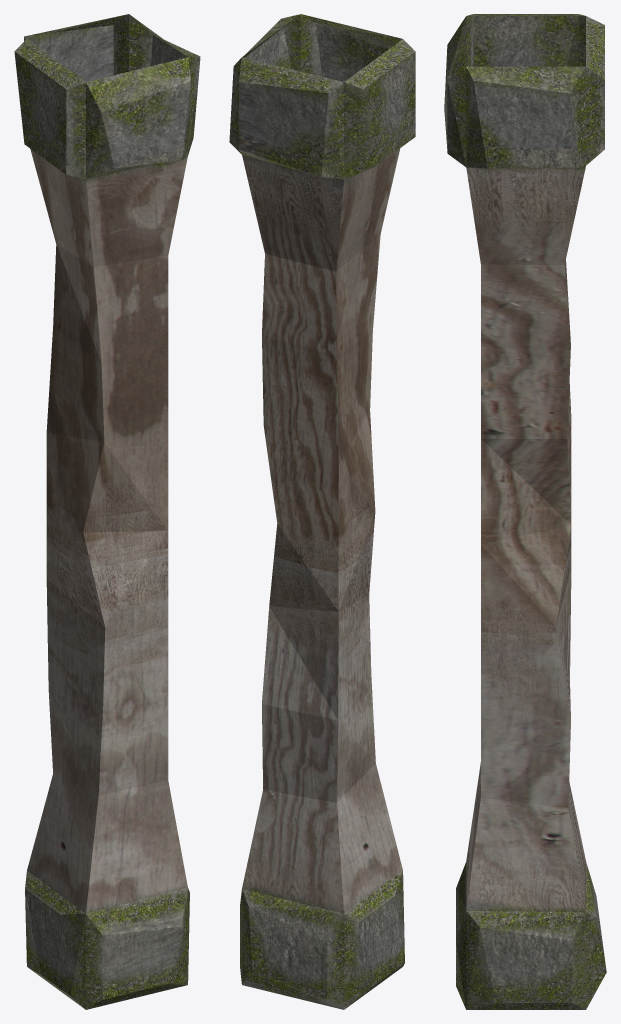
The model's file is column_v2.obj.
3 views of the same model, side by side, from view 1: azimuth 30°, elevation 25°; view 2: azimuth 150°, elevation 25°; view 3: azimuth 270°, elevation 25° (orthographic).
Visible parts, largest first — view 1: column_v2_Cube; view 2: column_v2_Cube; view 3: column_v2_Cube.
Part boxes in pixels (x1=…): column_v2_Cube: x1=14, y1=14, x2=200, y2=1009; column_v2_Cube: x1=229, y1=14, x2=415, y2=1009; column_v2_Cube: x1=444, y1=14, x2=606, y2=1009.
Bounding box in the file's own units: 0.3029 × 2 × 0.3122.
